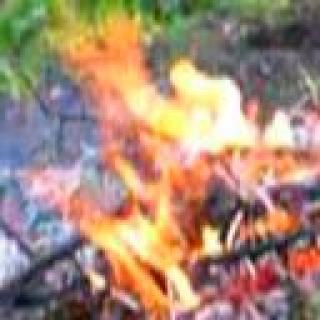fire: (38, 24, 320, 304)
